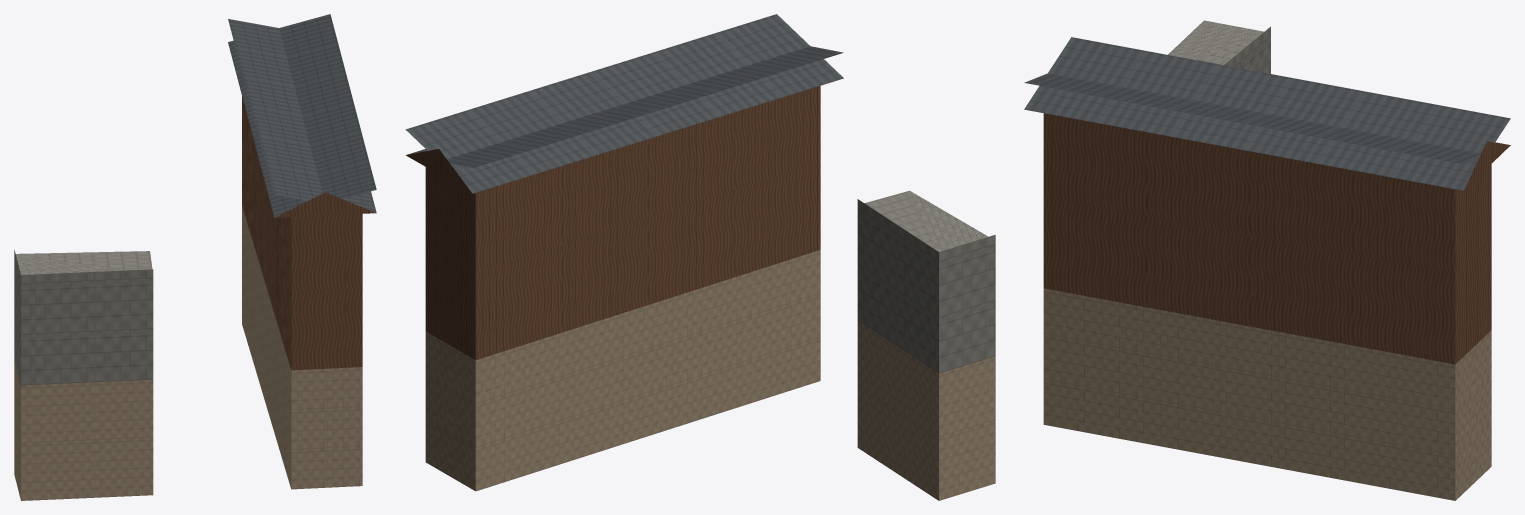
Rendered from bld_c8_37_507.gltf.
3 views of the same model, side by side, from view 1: azimuth 30°, elevation 25°; view 2: azimuth 150°, elevation 25°; view 3: azimuth 270°, elevation 25° (orthographic). The views are drawn at different scales.
Visible parts, largest first — view 1: bld_c8_37_507; view 2: bld_c8_37_507; view 3: bld_c8_37_507.
Part boxes in pixels (<box>): bld_c8_37_507: <box>14,14,376,500</box>; bld_c8_37_507: <box>405,14,995,500</box>; bld_c8_37_507: <box>1024,20,1510,500</box>.
Bounding box in the file's own units: 18.95 × 12.9 × 16.5.
Materials: 7 (7 with a texture image).
